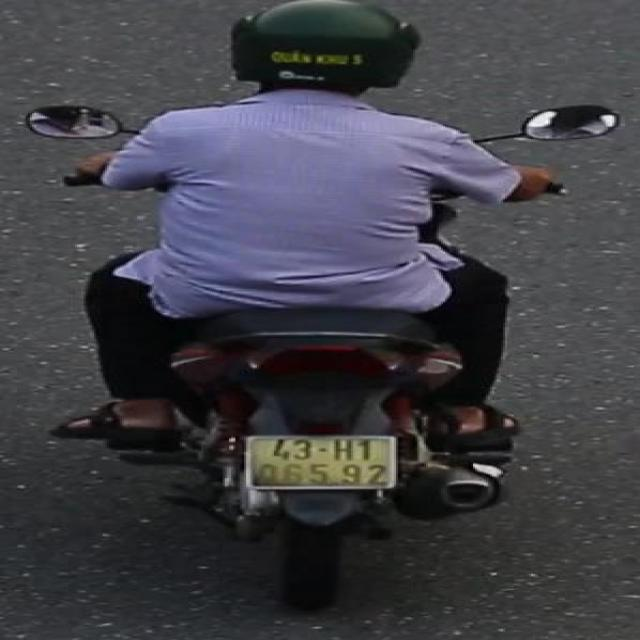LP: (233, 430, 404, 490)
helmet: (212, 0, 430, 113)
